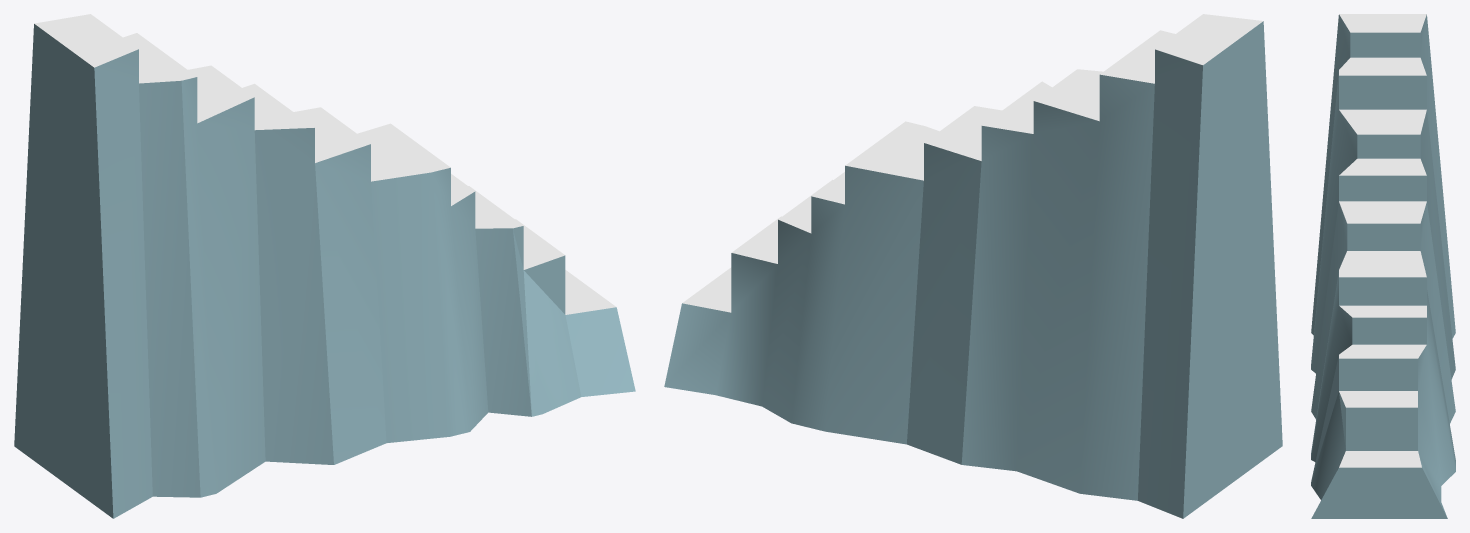
The model's file is Terrain_Tile_Ice_Snow_Stairs_03.fbx.
3 renders of one model, left to right at view 1: azimuth 30°, elevation 25°; view 2: azimuth 150°, elevation 25°; view 3: azimuth 270°, elevation 25°, orthographic. The views are drawn at different scales.
Visible parts, largest first — view 1: Terrain_Tile_Ice_Snow_Stairs_03; view 2: Terrain_Tile_Ice_Snow_Stairs_03; view 3: Terrain_Tile_Ice_Snow_Stairs_03.
Boxes of the visible parts, x1,y1,x2,y2 form: Terrain_Tile_Ice_Snow_Stairs_03: [14, 14, 635, 518]; Terrain_Tile_Ice_Snow_Stairs_03: [664, 14, 1282, 518]; Terrain_Tile_Ice_Snow_Stairs_03: [1311, 14, 1455, 518].
Size of the model in its own units: 157 by 126 by 51.8.
